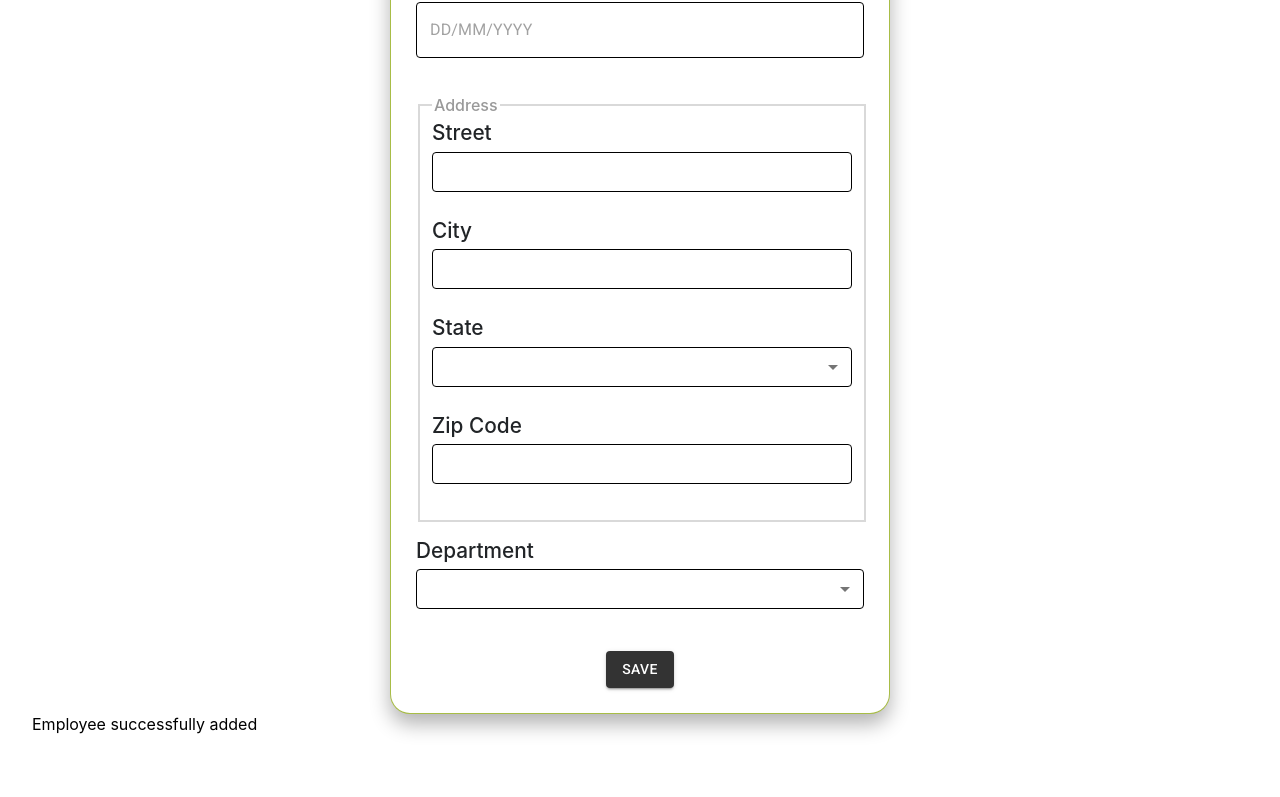
Scenario: Form should render correctly › Error messages should render correclty
(page scrolled)
Click the button with test id "submit-button" at (640, 670), box [606,651,674,688]
(page scrolled)
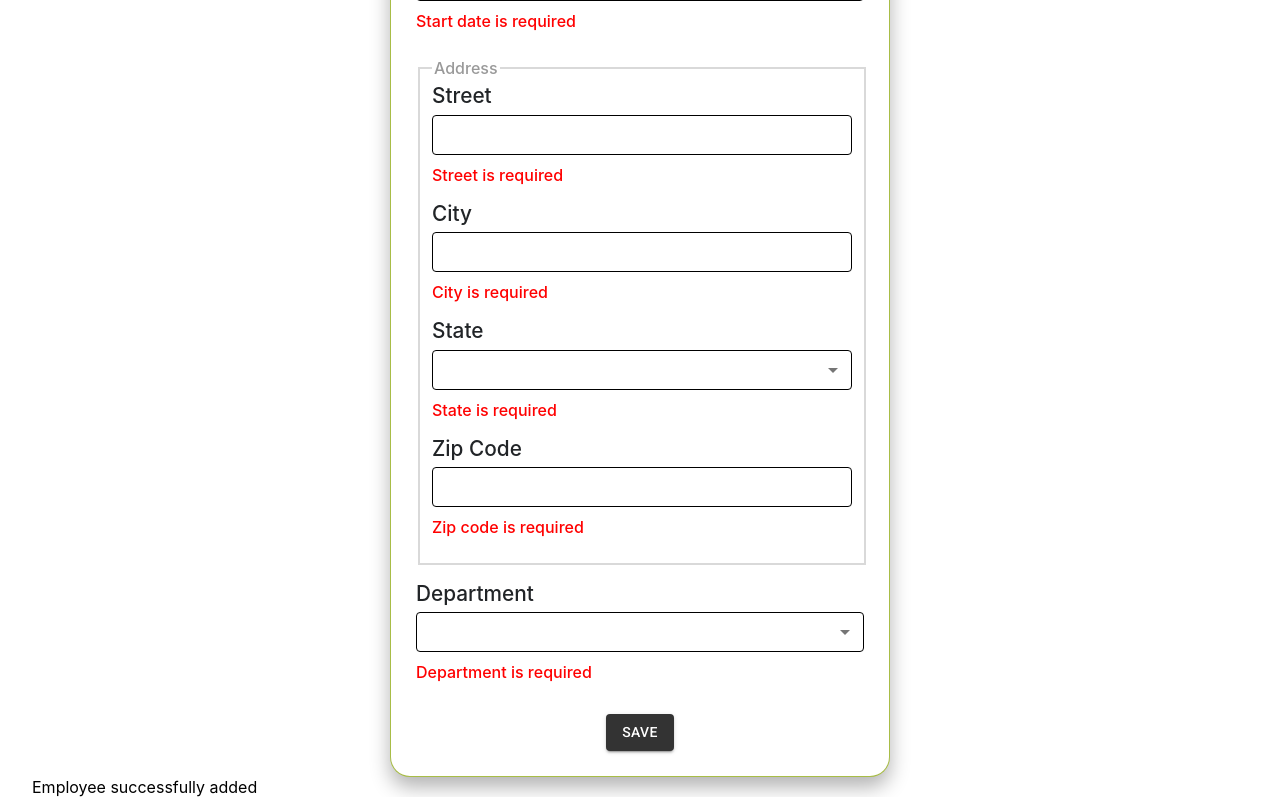
Expected: the text "Start date is required" is shown, [416,11,576,31]
Expected: the text "Street is required" is shown, [432,165,563,185]
Expected: the text "City is required" is shown, [432,282,548,302]
